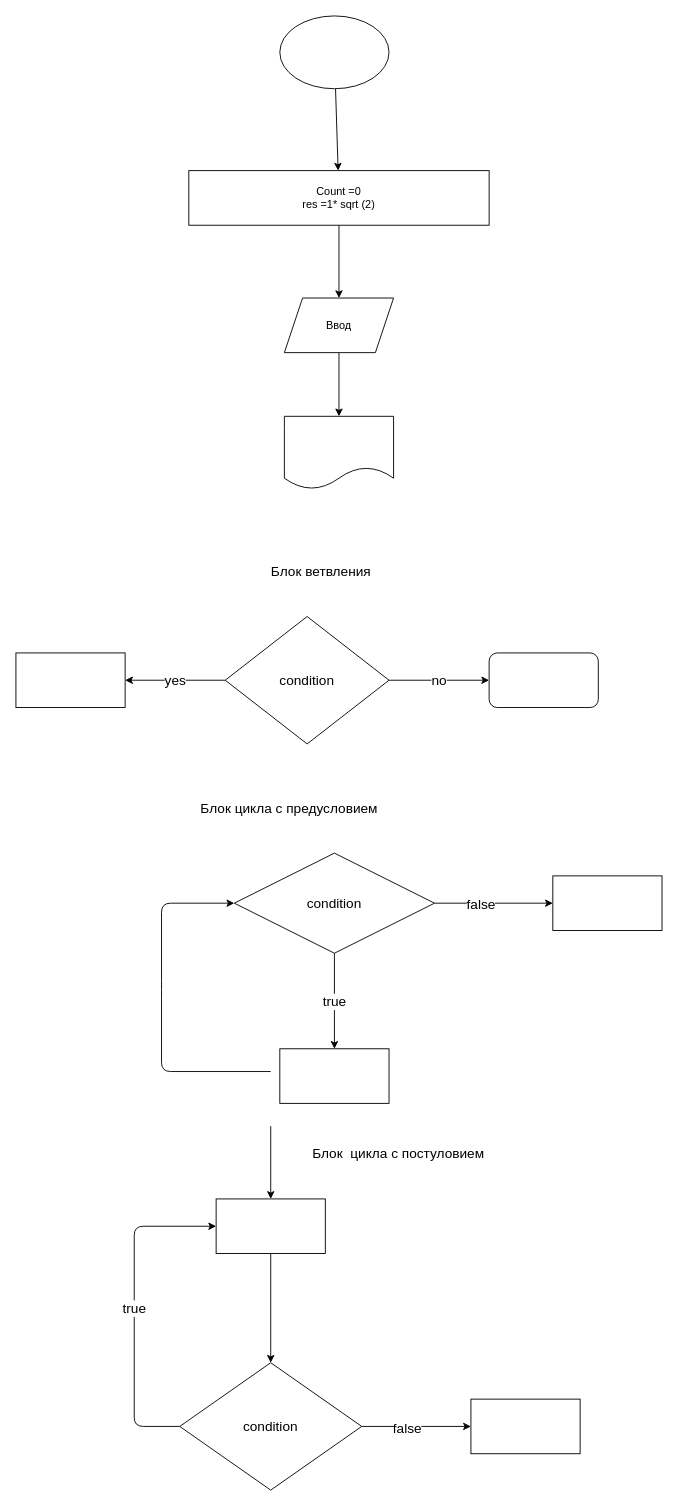
This 678x1506 diagram has some shape labels left out. Here are the shapes that lost their labels. From the top down, the centre of each, then its label:
[334,52]: START
[338,452]: Вывод
